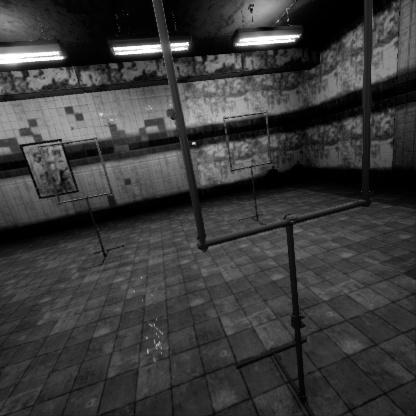gate: (144, 162, 390, 416), (38, 210, 117, 279), (223, 243, 275, 305)
